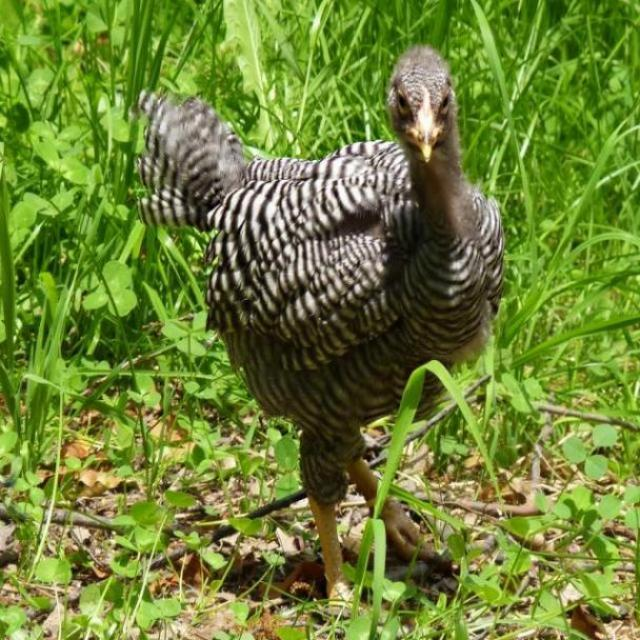Chicken: (142, 55, 487, 597)
